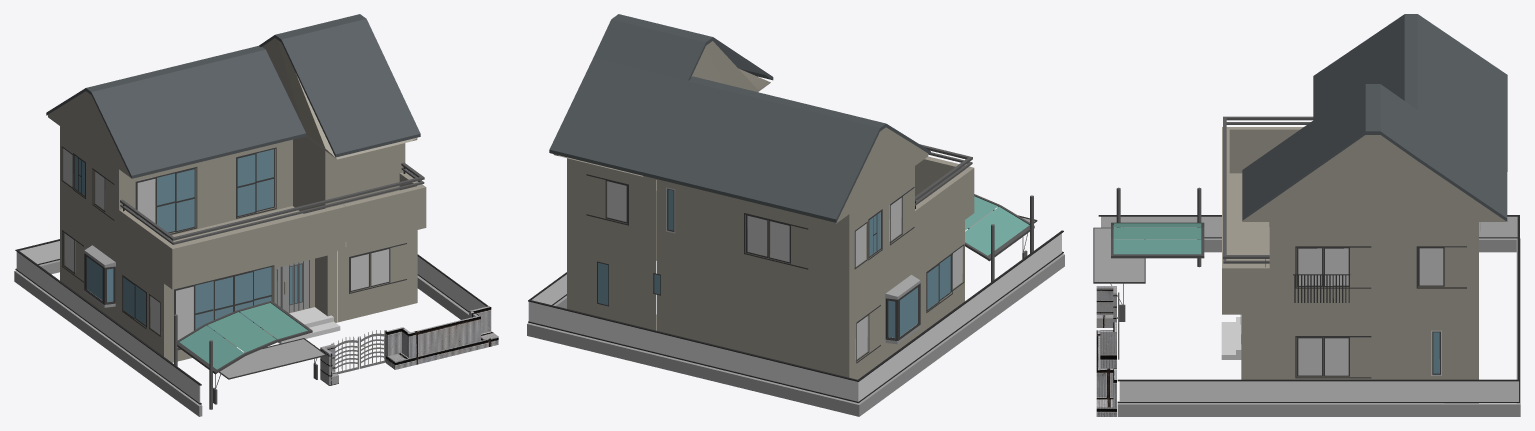
File: house_006_midlle.fbx
3 renders of one model, left to right at view 1: azimuth 30°, elevation 25°; view 2: azimuth 150°, elevation 25°; view 3: azimuth 270°, elevation 25°, orthographic. The views are drawn at different scales.
Visible parts, largest first — view 1: pCube235; view 2: pCube235; view 3: pCube235.
Part boxes in pixels (x1,y1,x2,y2): pCube235: [14, 14, 498, 416]; pCube235: [527, 14, 1064, 416]; pCube235: [1093, 14, 1520, 416].
Bounding box in the file's own units: 13.45 × 10.62 × 14.6.
